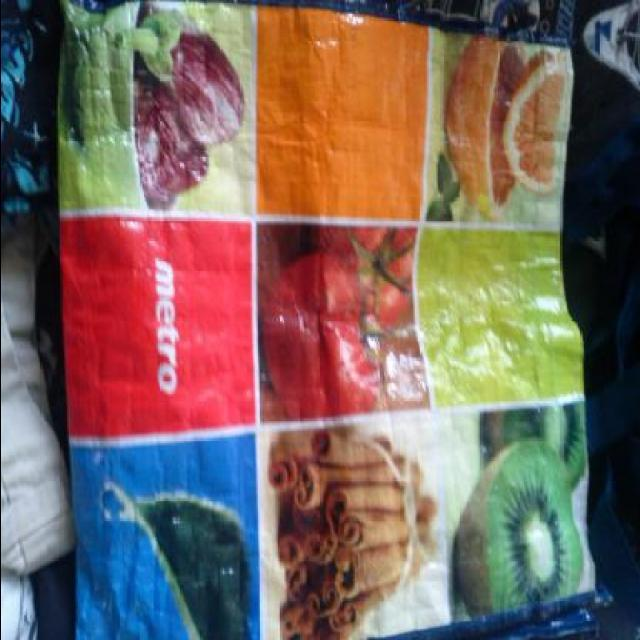Orange: (443, 30, 525, 204)
